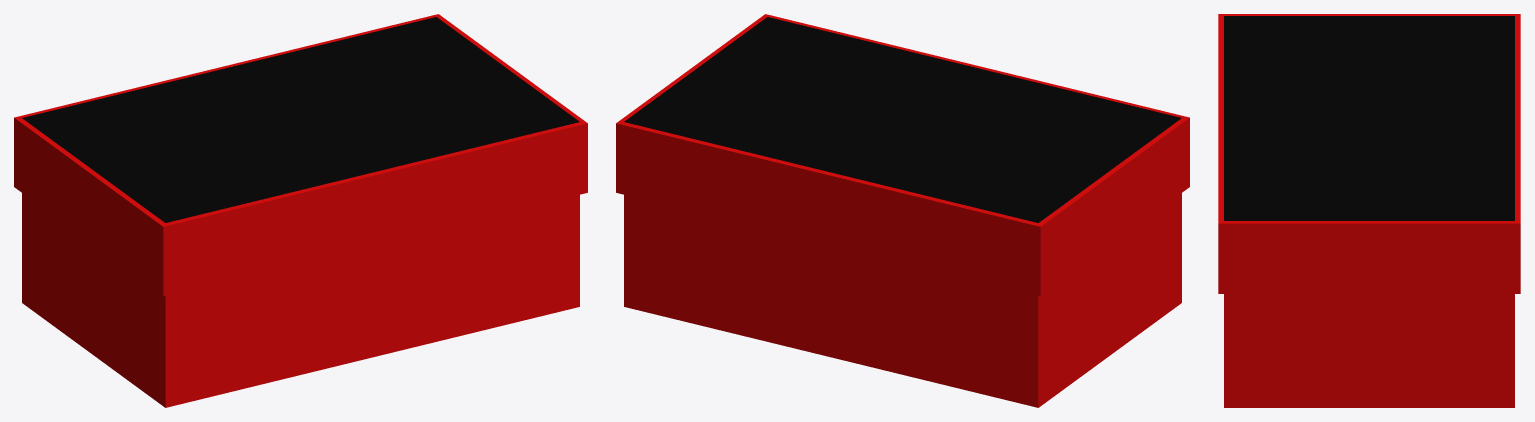
File: lidBottom.glb
The picture shows the model from 3 angles, left to right: view 1: azimuth 30°, elevation 25°; view 2: azimuth 150°, elevation 25°; view 3: azimuth 270°, elevation 25°; orthographic projection.
Parts seen in each view (by area): view 1: Base, LogoPlane, Lid; view 2: Base, LogoPlane, Lid; view 3: LogoPlane, Base, Lid.
Part boxes in pixels (<box>): Base: <box>22,193,579,407</box>; LogoPlane: <box>22,17,579,222</box>; Lid: <box>14,14,587,296</box>; Base: <box>624,193,1181,407</box>; LogoPlane: <box>624,17,1181,222</box>; Lid: <box>616,14,1189,296</box>; LogoPlane: <box>1224,16,1514,220</box>; Base: <box>1224,294,1514,407</box>; Lid: <box>1218,14,1520,293</box>.
Size of the model in its own units: 256 by 106 by 156.
Materials: 7 (1 with a texture image).
